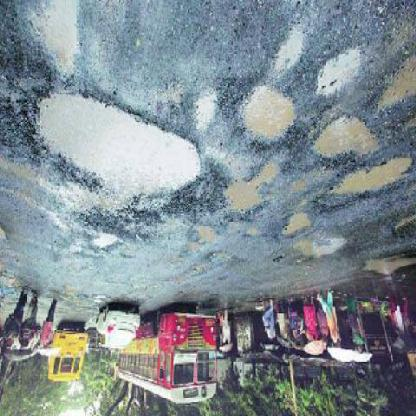pothole: (32, 94, 204, 205), (318, 156, 416, 216), (31, 3, 84, 85), (220, 162, 281, 223), (238, 90, 297, 149), (311, 116, 379, 166), (313, 44, 363, 104), (375, 59, 416, 115), (271, 26, 307, 83), (294, 237, 348, 266), (193, 90, 220, 136), (279, 210, 315, 244), (186, 227, 215, 256), (91, 235, 123, 252)
